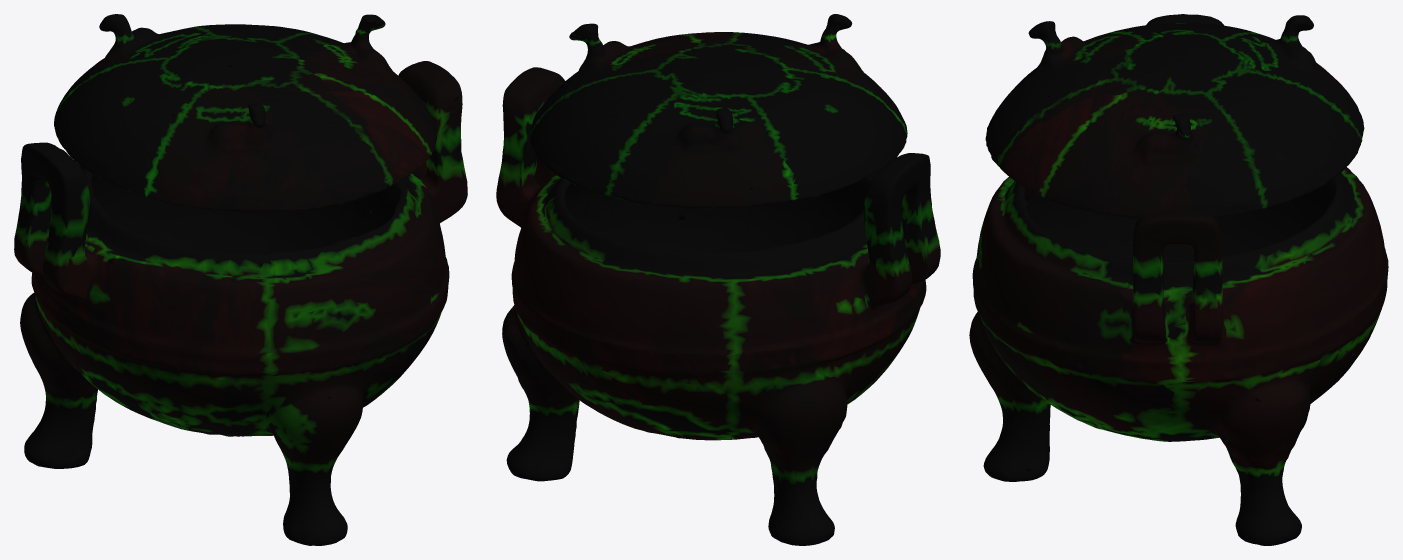
3 renders of one model, left to right at view 1: azimuth 30°, elevation 25°; view 2: azimuth 150°, elevation 25°; view 3: azimuth 270°, elevation 25°, orthographic.
Parts seen in each view (by area): view 1: ding_warring; view 2: ding_warring; view 3: ding_warring.
Boxes of the visible parts, bbox=[...] form: ding_warring: bbox=[14, 14, 467, 545]; ding_warring: bbox=[496, 14, 940, 545]; ding_warring: bbox=[969, 14, 1388, 545].
Size of the model in its own units: 0.259 by 0.2589 by 0.2299.
Materials: 1 (1 with a texture image).
